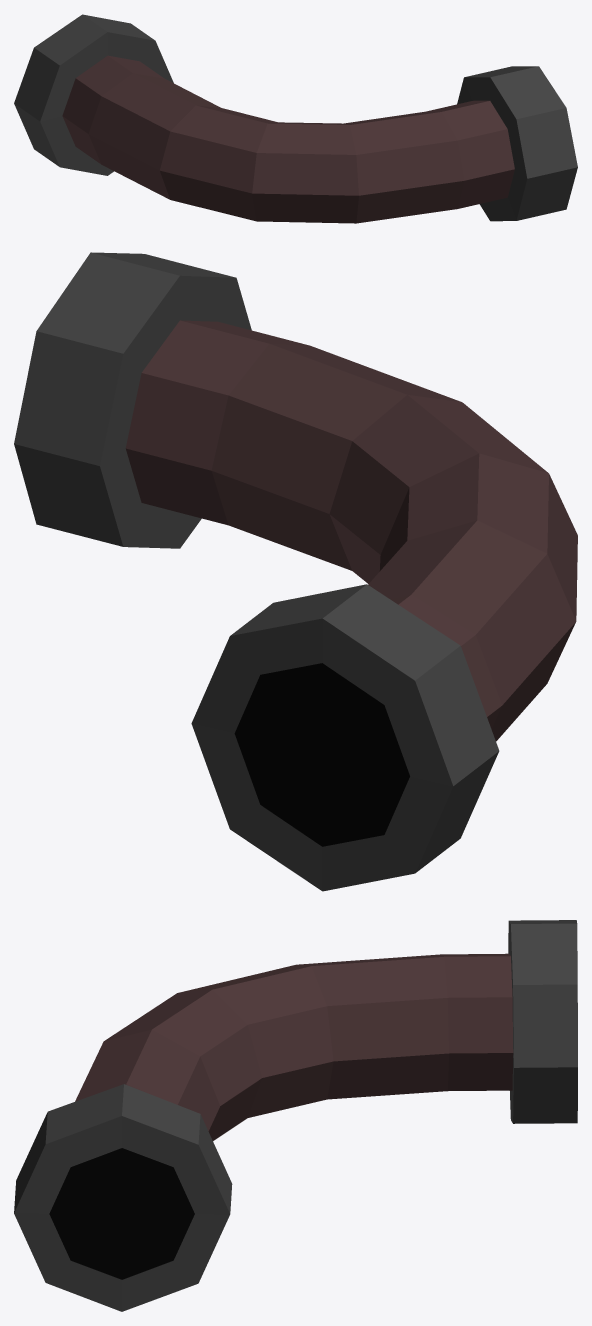
File: Pipe_J.fbx
3 views of the same model, one above another, from view 1: azimuth 30°, elevation 25°; view 2: azimuth 150°, elevation 25°; view 3: azimuth 270°, elevation 25° (orthographic). The views are drawn at different scales.
Visible parts, largest first — view 1: J; view 2: J; view 3: J.
Part boxes in pixels (<box>): J: <box>14,14,577,223</box>; J: <box>14,252,577,891</box>; J: <box>14,920,577,1311</box>.
Size of the model in its own units: 61.8 by 23.7 by 61.78.
